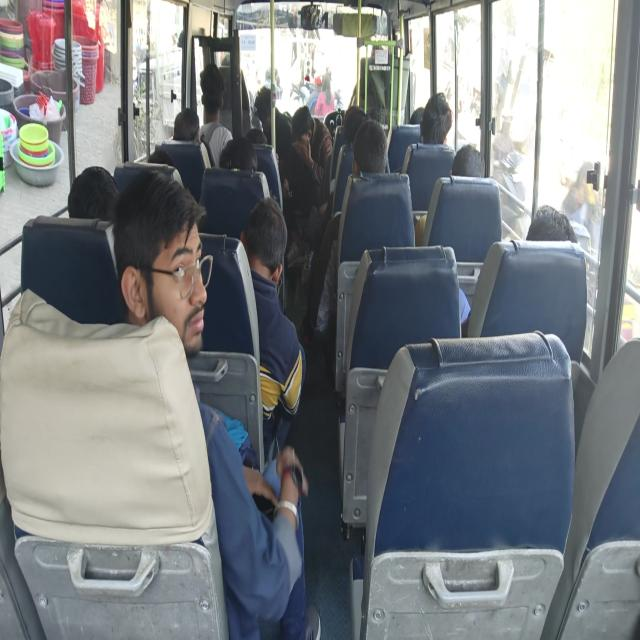person: (111, 168, 320, 638), (239, 196, 306, 466), (314, 119, 390, 336), (459, 203, 579, 336), (290, 105, 332, 214), (198, 63, 232, 167), (562, 160, 602, 248), (68, 164, 120, 222), (352, 118, 389, 176), (526, 204, 578, 243), (419, 91, 453, 145), (218, 136, 258, 170), (450, 144, 485, 178), (170, 107, 200, 142), (314, 72, 334, 116)
